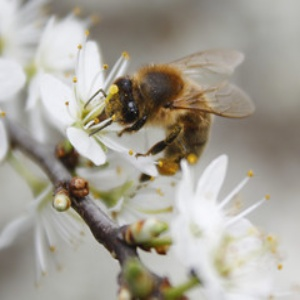bee: (96, 49, 252, 163)
